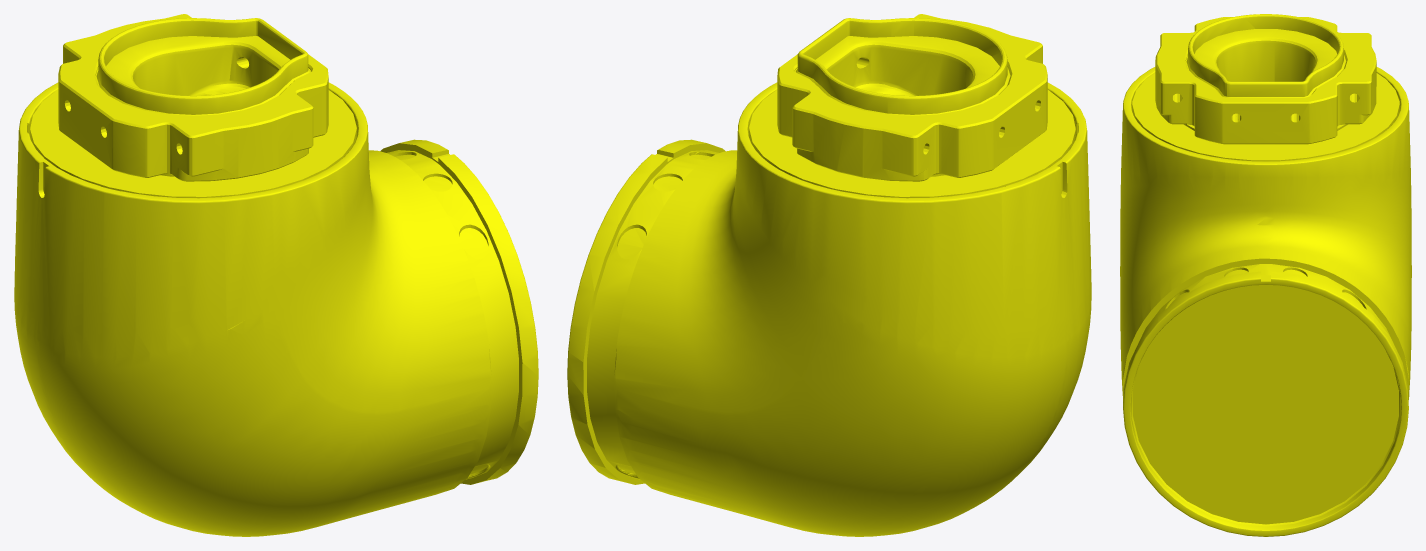
3 views of the same model, side by side, from view 1: azimuth 30°, elevation 25°; view 2: azimuth 150°, elevation 25°; view 3: azimuth 270°, elevation 25° (orthographic). The views are drawn at different scales.
Parts seen in each view (by area): view 1: solid_myCobot_320_M5_2022v1.2_230708_-___________W-J5_____my; view 2: solid_myCobot_320_M5_2022v1.2_230708_-___________W-J5_____my; view 3: solid_myCobot_320_M5_2022v1.2_230708_-___________W-J5_____my.
Boxes of the visible parts, x1,y1,x2,y2 form: solid_myCobot_320_M5_2022v1.2_230708_-___________W-J5_____my: (14, 14, 538, 536); solid_myCobot_320_M5_2022v1.2_230708_-___________W-J5_____my: (567, 14, 1091, 536); solid_myCobot_320_M5_2022v1.2_230708_-___________W-J5_____my: (1120, 14, 1411, 536).
Bounding box in the file's own units: 79.6 × 59.32 × 87.9.
